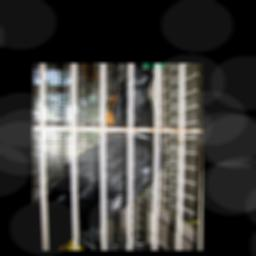Crow: (33, 66, 164, 250)
